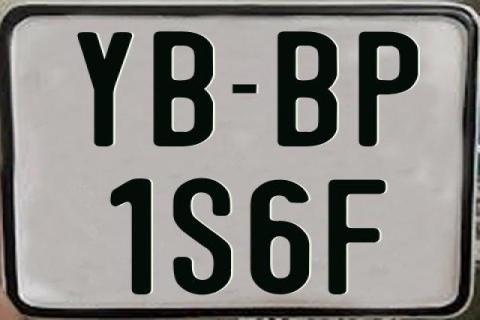0: (249, 180, 309, 300), (107, 177, 153, 293)
B: (274, 30, 338, 148), (151, 29, 212, 145)
F: (328, 178, 388, 294)
P: (359, 31, 419, 147)
S: (173, 177, 232, 299)
Y: (75, 31, 133, 145)
